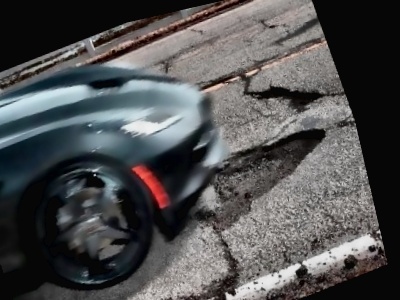pothole: (170, 115, 349, 242), (250, 66, 325, 125)
